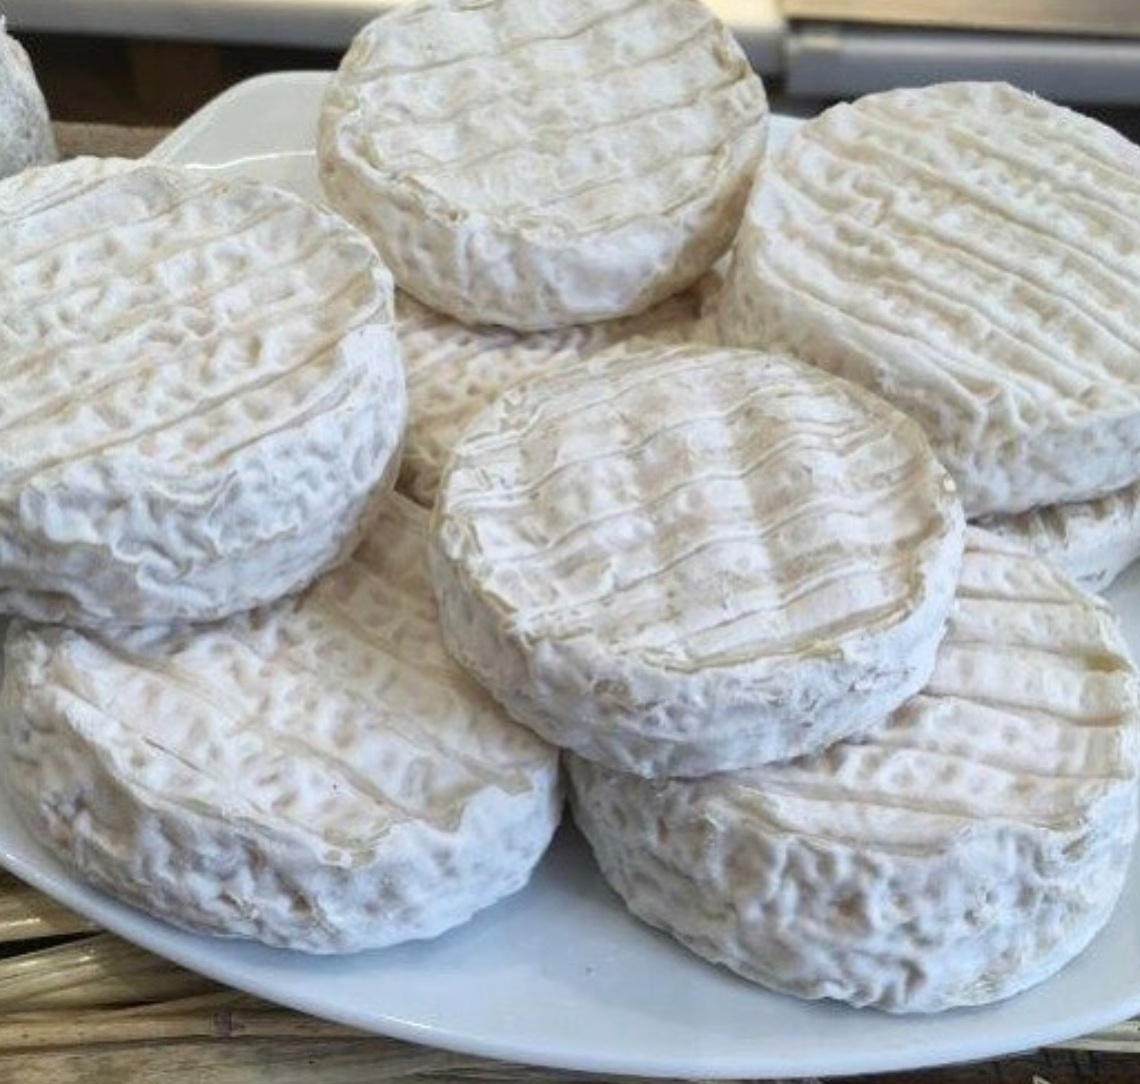camembert: (568, 528, 1139, 1016), (1, 487, 566, 954), (430, 347, 970, 780), (1, 153, 412, 630), (725, 81, 1140, 520), (313, 1, 771, 335)
